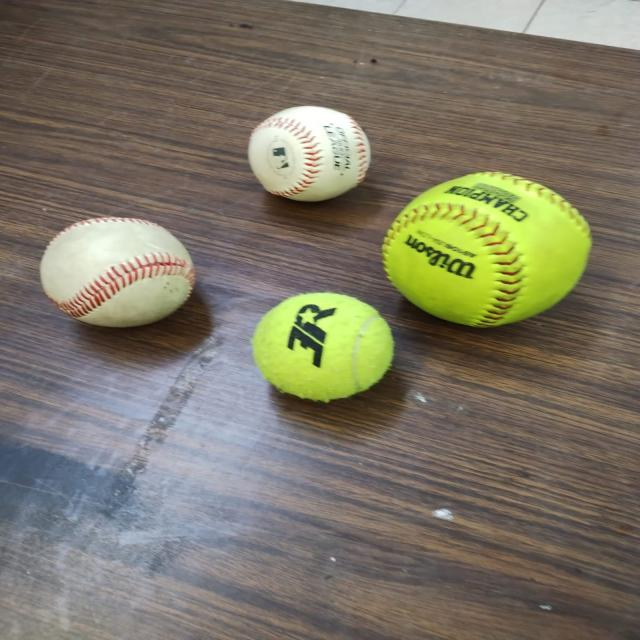beisbol ball: (35, 216, 198, 333), (248, 106, 373, 200)
softball ball: (379, 174, 591, 326)
tenis ball: (249, 290, 396, 401)
